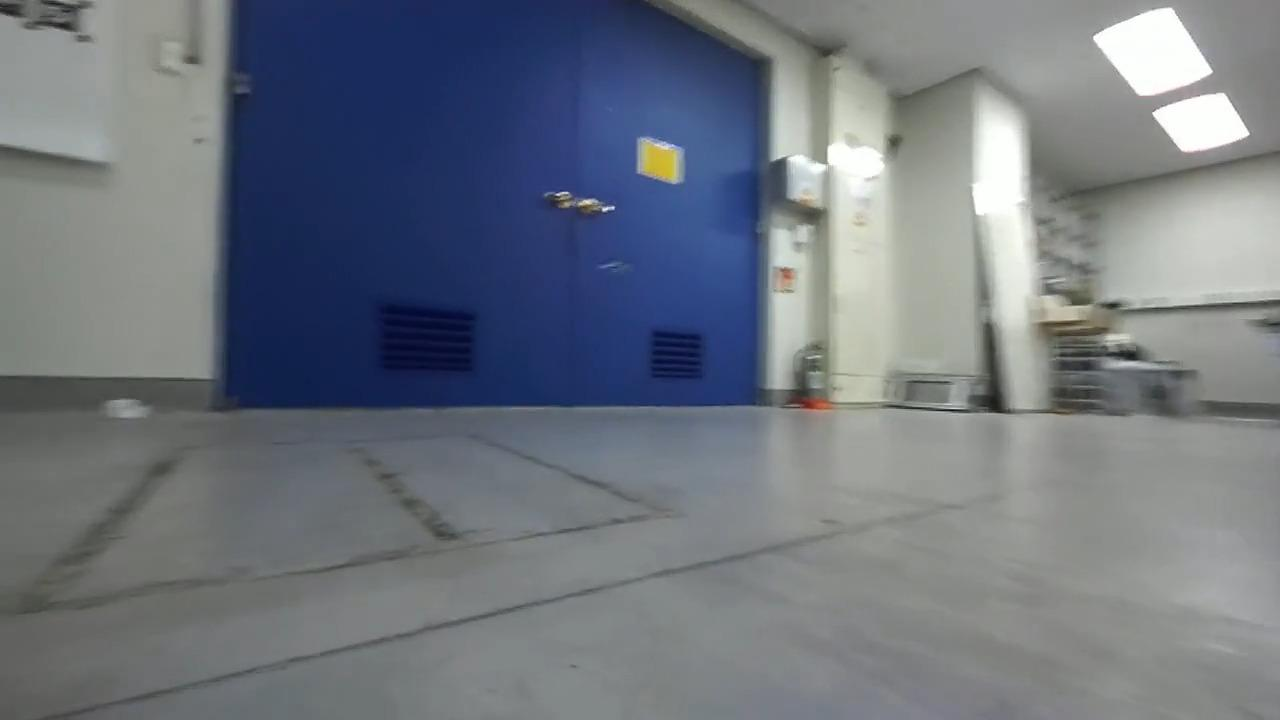crazyflie: (593, 257, 636, 277)
